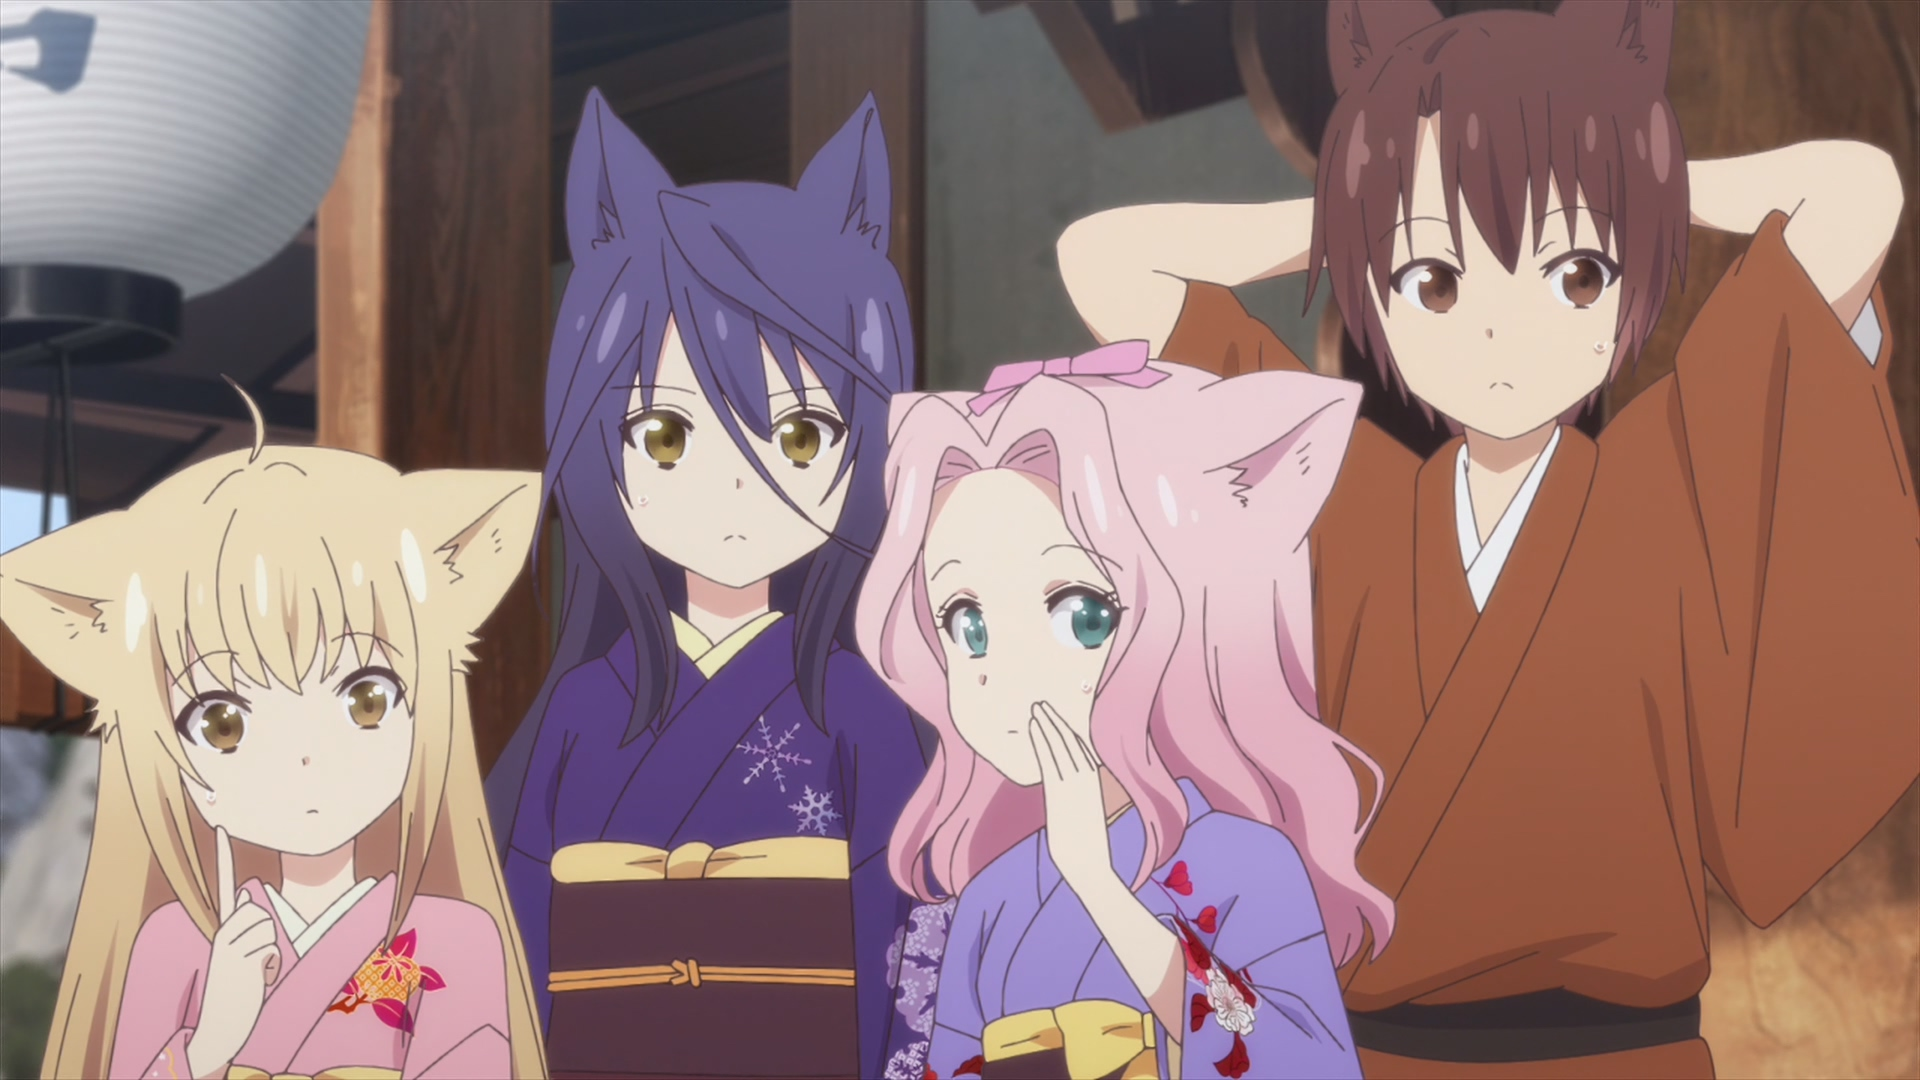枣: (1058, 1, 1920, 1080)
柚: (1, 375, 549, 1080)
皋: (483, 86, 939, 1080)
莲: (855, 339, 1396, 1080)
